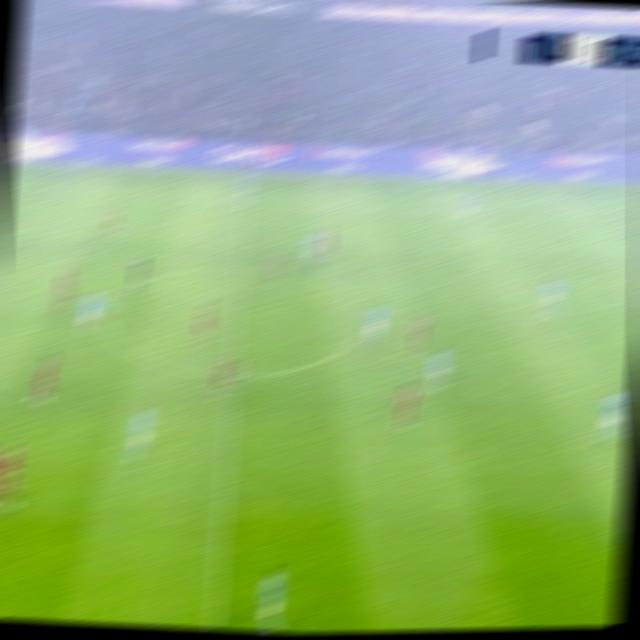bigarea_top_inner: (620, 224, 638, 238)
halfcircle_bottom: (220, 362, 247, 386)
halfcircle_top: (229, 257, 251, 276)
